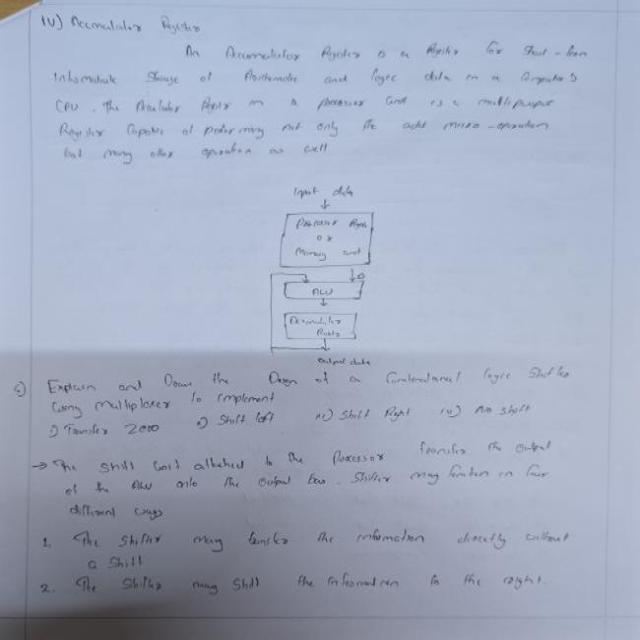Figure Detection - v3 Dataset Version2: (240, 172, 443, 373)
